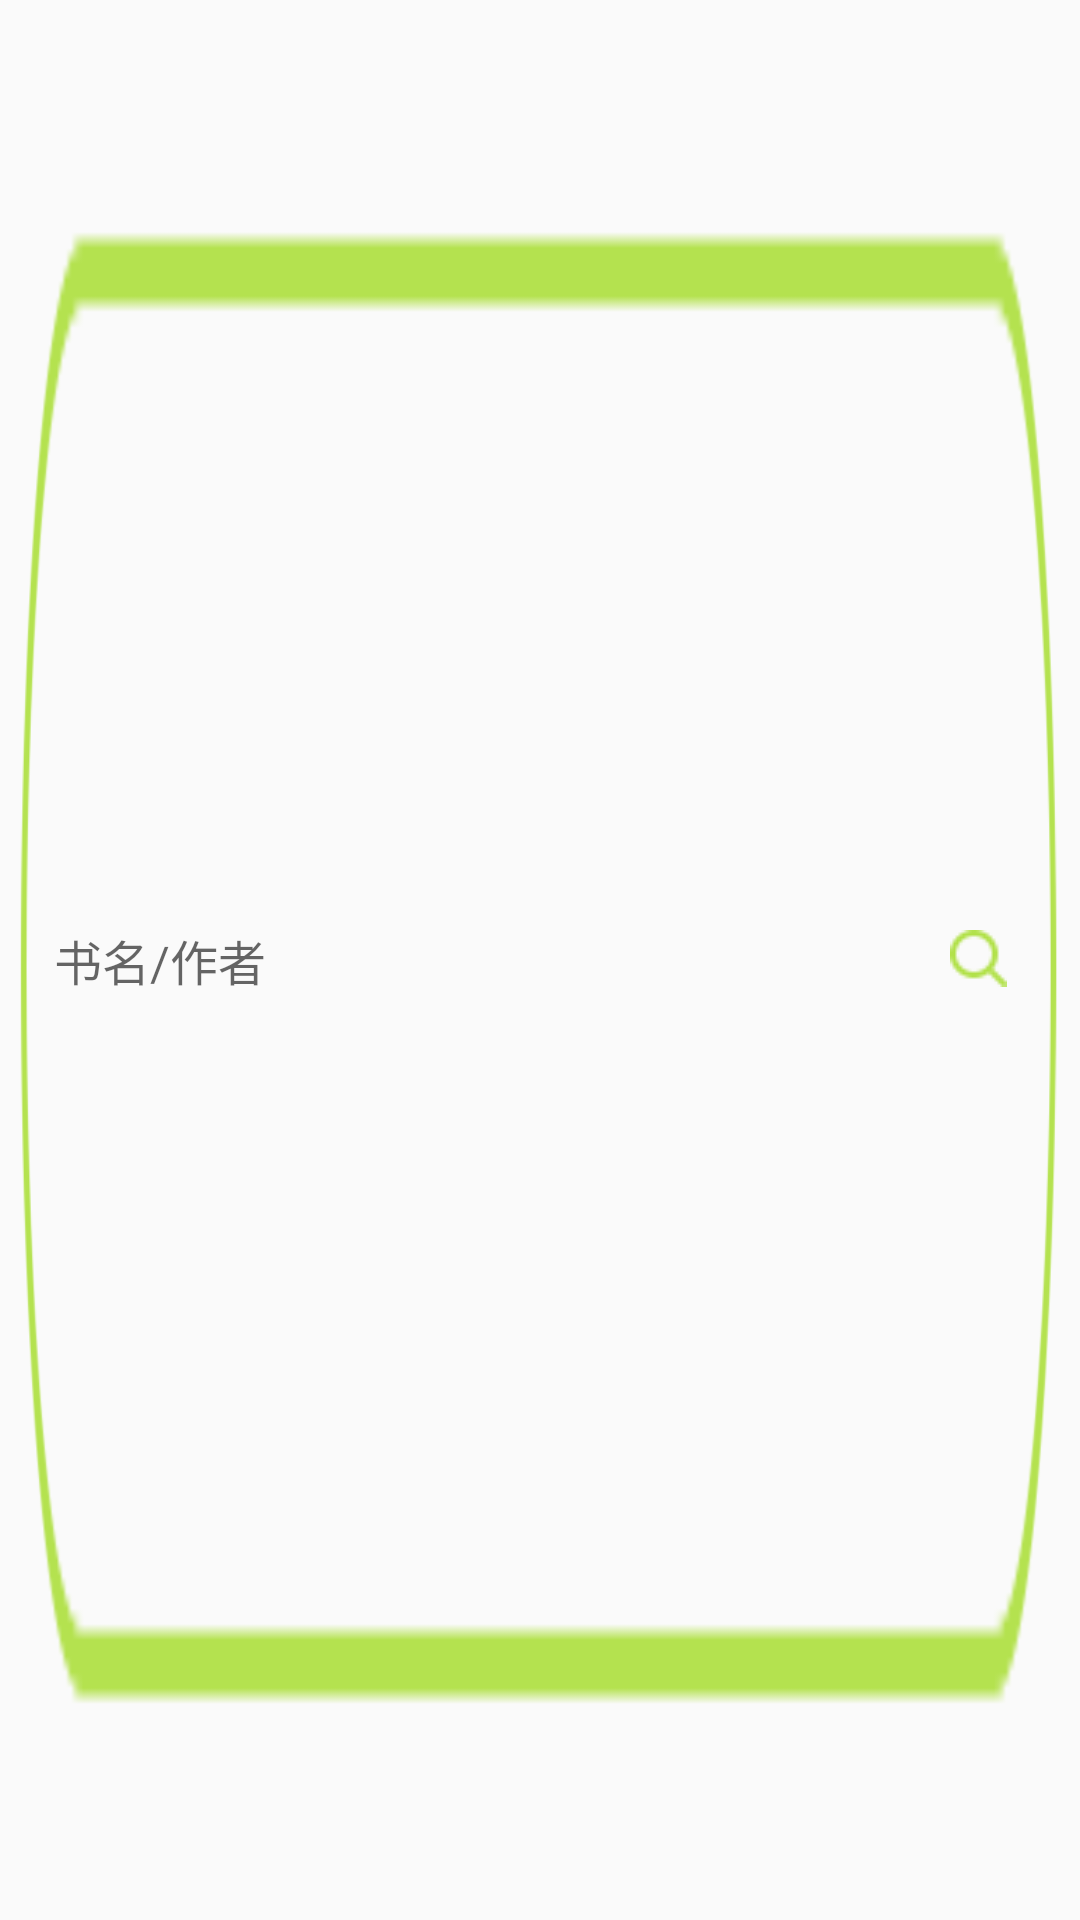

Where to tap for icons on this 1080×1920 app screen, as (x,y):
search: (978,958)
